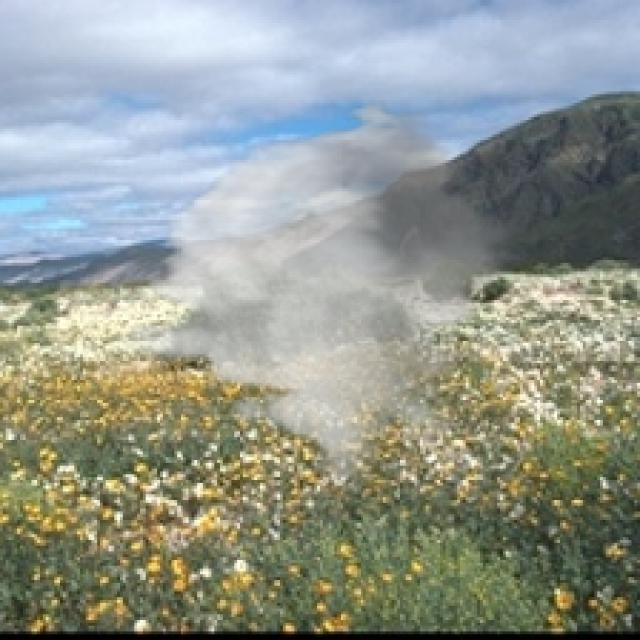Smoke: (117, 100, 526, 486)
